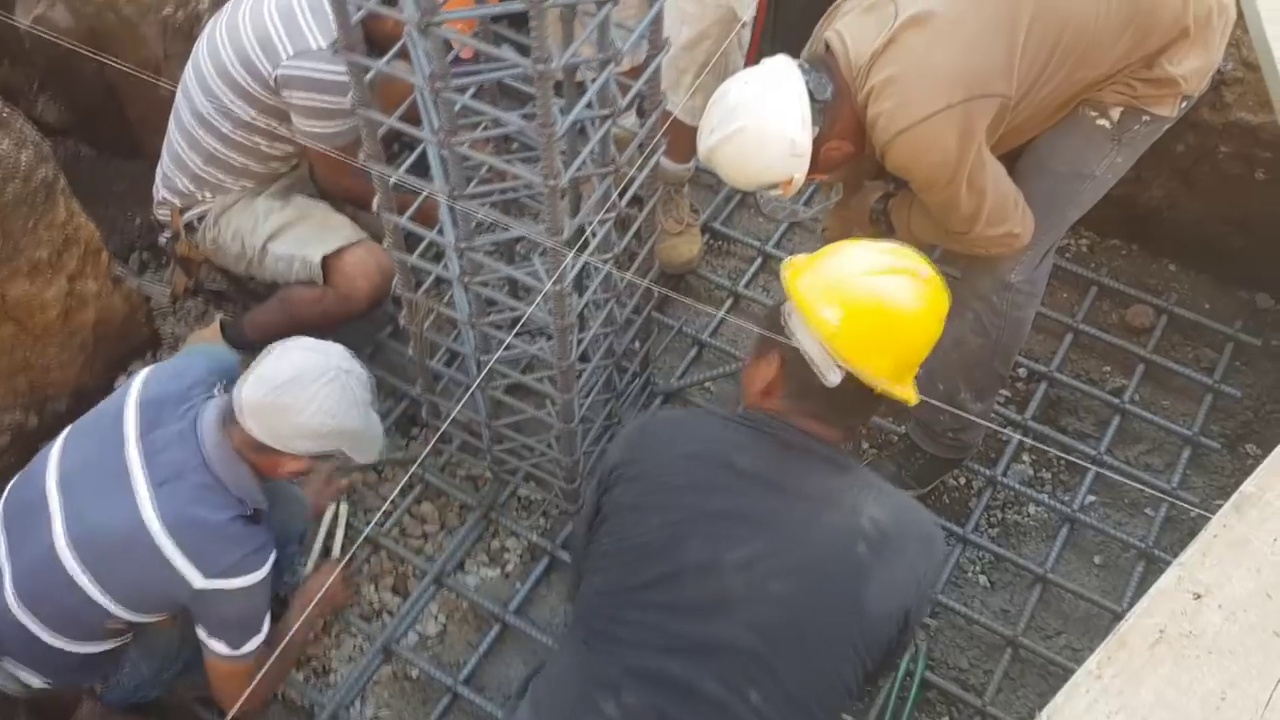helmet: (777, 240, 958, 410), (702, 52, 824, 198), (430, 2, 505, 59)
helmet-off: (221, 343, 387, 512)
helmet-on: (736, 239, 956, 449), (705, 38, 876, 198), (350, 0, 504, 59)
person: (692, 0, 1236, 499), (528, 238, 958, 720), (0, 341, 387, 708), (141, 1, 505, 348), (560, 2, 763, 276)
